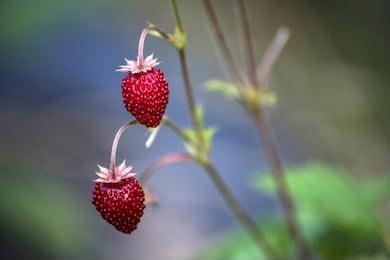Fresa: (88, 164, 154, 238), (117, 57, 174, 131)
